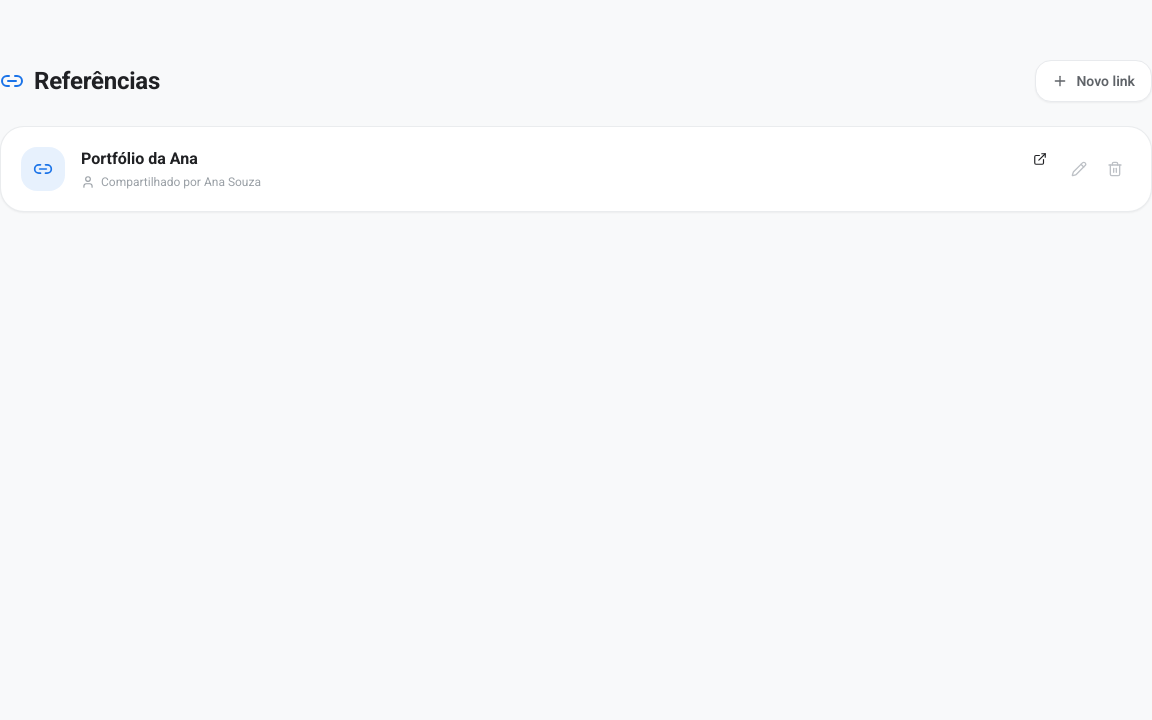
Test: ReferenceLinksModule › opens the edit form pre-filled when a link is edited
The image size is (1152, 720).
What coordinates should you click on to do the following:
click the button named "Editar link"
I would click on:
 (1079, 169)
Its box is 1063,153 -> 1095,185.
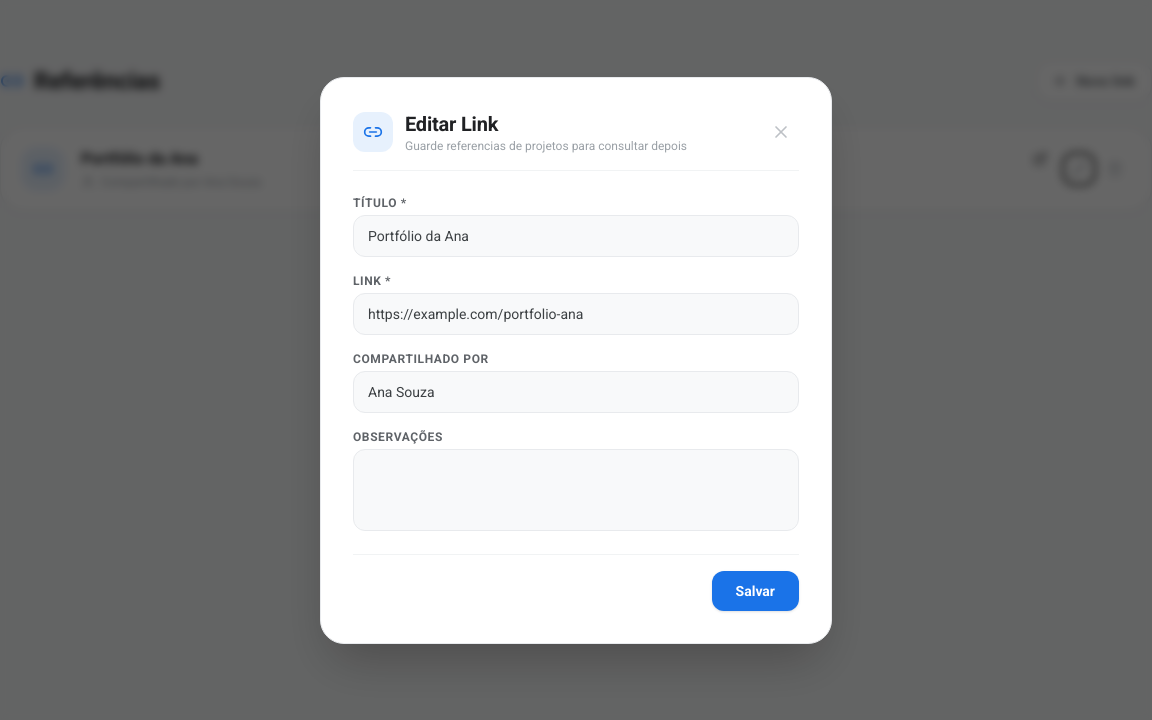
Expected: the heading "Editar Link" is shown, 405,112 -> 498,136
Expected: the field showing "Portfólio da Ana" is shown, 353,214 -> 799,256
